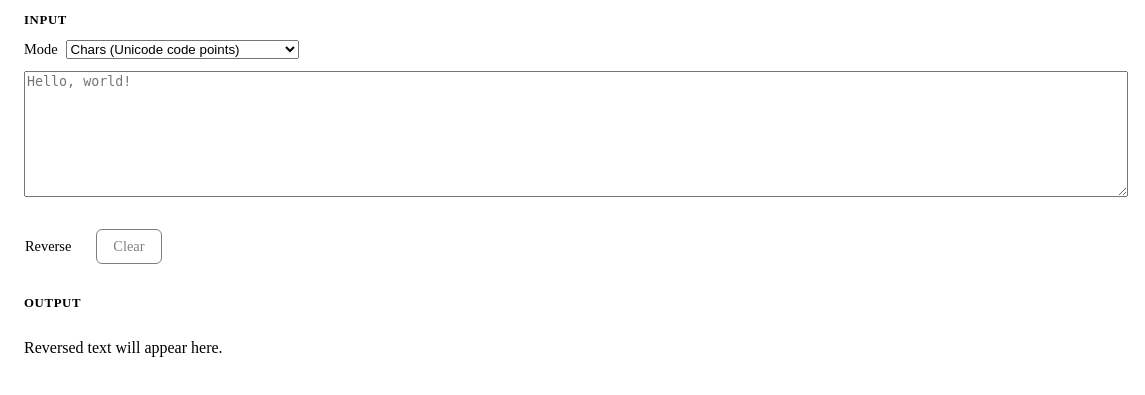
Test: TextReverserTool › keeps emoji intact when reversing user input
This screenshot has width=1145, height=395.
Type "ab👍cd" into the text box named "Text to reverse" at (576, 134), box [24, 71, 1128, 197]
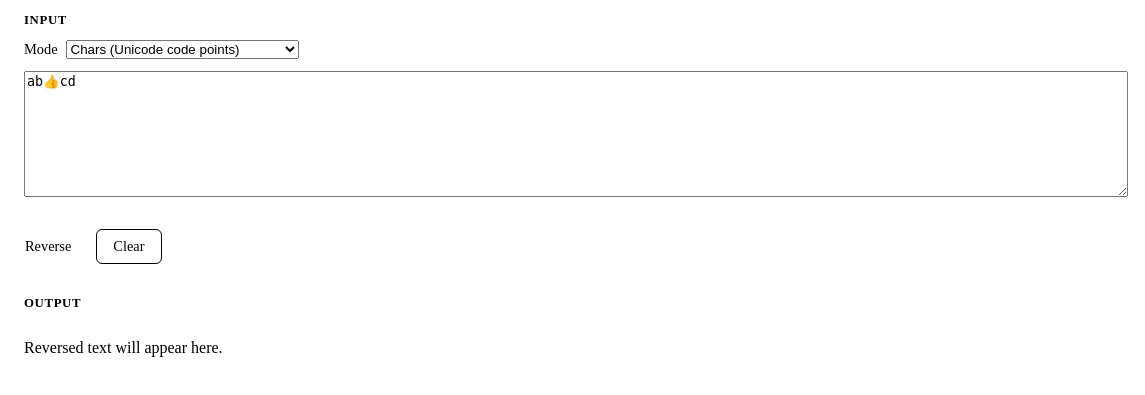
Click the button "Reverse" at (48, 246), box [8, 229, 88, 264]
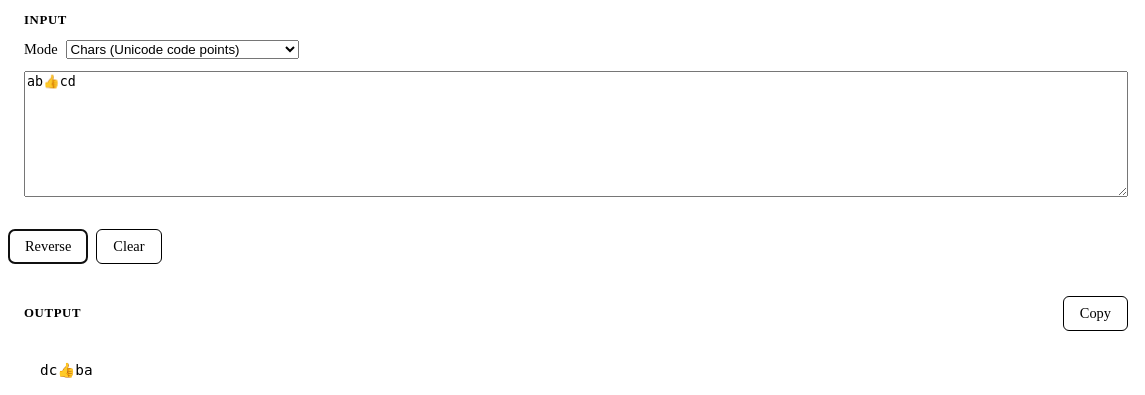
expect the text with test id "reverser-output" reads "dc👍ba": met, box [40, 362, 93, 378]
